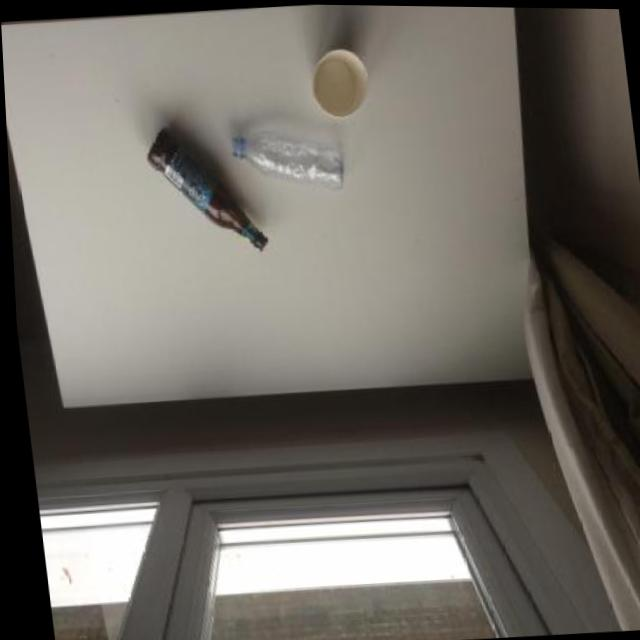cardboard: (306, 46, 373, 121)
glass: (142, 118, 270, 260)
plastic: (228, 121, 350, 198)
